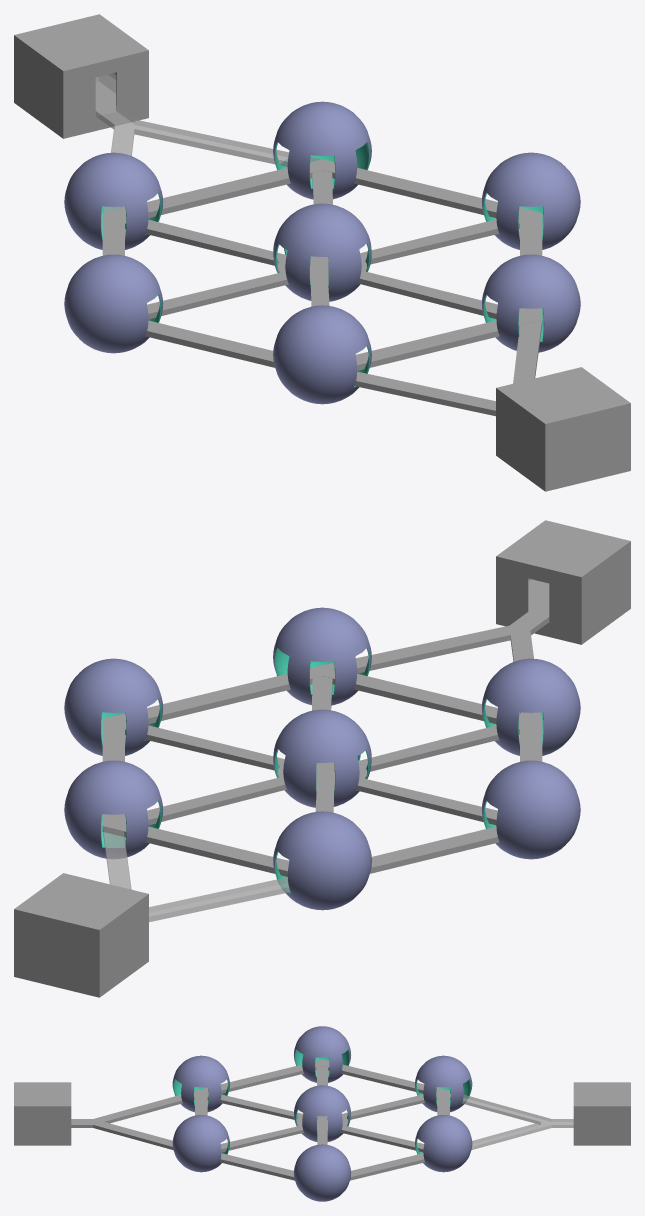
3 renders of one model, top to bottom at view 1: azimuth 30°, elevation 25°; view 2: azimuth 150°, elevation 25°; view 3: azimuth 270°, elevation 25°, orthographic. The views are drawn at different scales.
Visible parts, largest first — view 1: pCube3, pCube5, pTorus1, pCylinder1, pSphere17, pSphere13, pSphere9, pSphere12, pSphere15, pSphere14, pSphere16, pCube4 (+1 smaller); view 2: pCube5, pTorus1, pCube3, pCylinder1, pSphere15, pSphere13, pSphere14, pSphere9, pSphere12, pSphere17, pSphere16, pCube2 (+1 smaller); view 3: pTorus1, pCube5, pCube3, pCylinder1, pSphere12, pSphere14, pSphere16, pSphere13, pSphere15, pSphere17, pSphere9, pCube4 (+1 smaller).
Part boxes in pixels (x1,y1,x2,y2): pCube3: (496, 367, 630, 491); pCube5: (14, 14, 148, 138); pTorus1: (102, 159, 542, 370); pCylinder1: (125, 170, 519, 318); pSphere17: (273, 305, 371, 404); pSphere13: (64, 254, 163, 353); pSphere9: (273, 203, 371, 301); pSphere12: (481, 152, 580, 249); pSphere15: (64, 152, 163, 249); pSphere14: (273, 101, 371, 199); pSphere16: (482, 254, 580, 352); pCube4: (95, 73, 320, 212); pCube5: (14, 873, 148, 997); pTorus1: (102, 665, 542, 876); pCube3: (496, 520, 630, 644); pCylinder1: (125, 676, 519, 824); pSphere15: (273, 811, 371, 910); pSphere13: (481, 760, 580, 859); pSphere14: (64, 760, 163, 858); pSphere9: (273, 709, 371, 807); pSphere12: (64, 658, 163, 755); pSphere17: (481, 658, 580, 755); pSphere16: (273, 607, 371, 705); pCube2: (323, 579, 549, 718); pTorus1: (195, 1059, 449, 1180); pCube5: (573, 1082, 630, 1145); pCube3: (14, 1082, 71, 1145); pCylinder1: (207, 1066, 437, 1152); pSphere12: (294, 1144, 350, 1201); pSphere14: (415, 1115, 472, 1172); pSphere16: (172, 1115, 229, 1172); pSphere13: (294, 1026, 350, 1082); pSphere15: (415, 1055, 472, 1112); pSphere17: (172, 1055, 229, 1112); pSphere9: (294, 1085, 350, 1141); pCube4: (450, 1091, 573, 1150).
Size of the model in its own units: 48.2 by 8.2 by 88.2.
